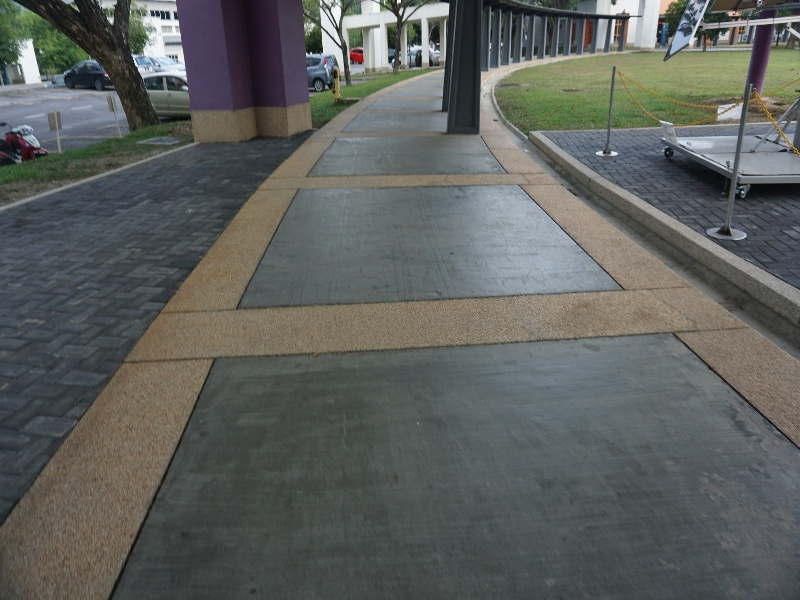pillar: (174, 9, 322, 146)
